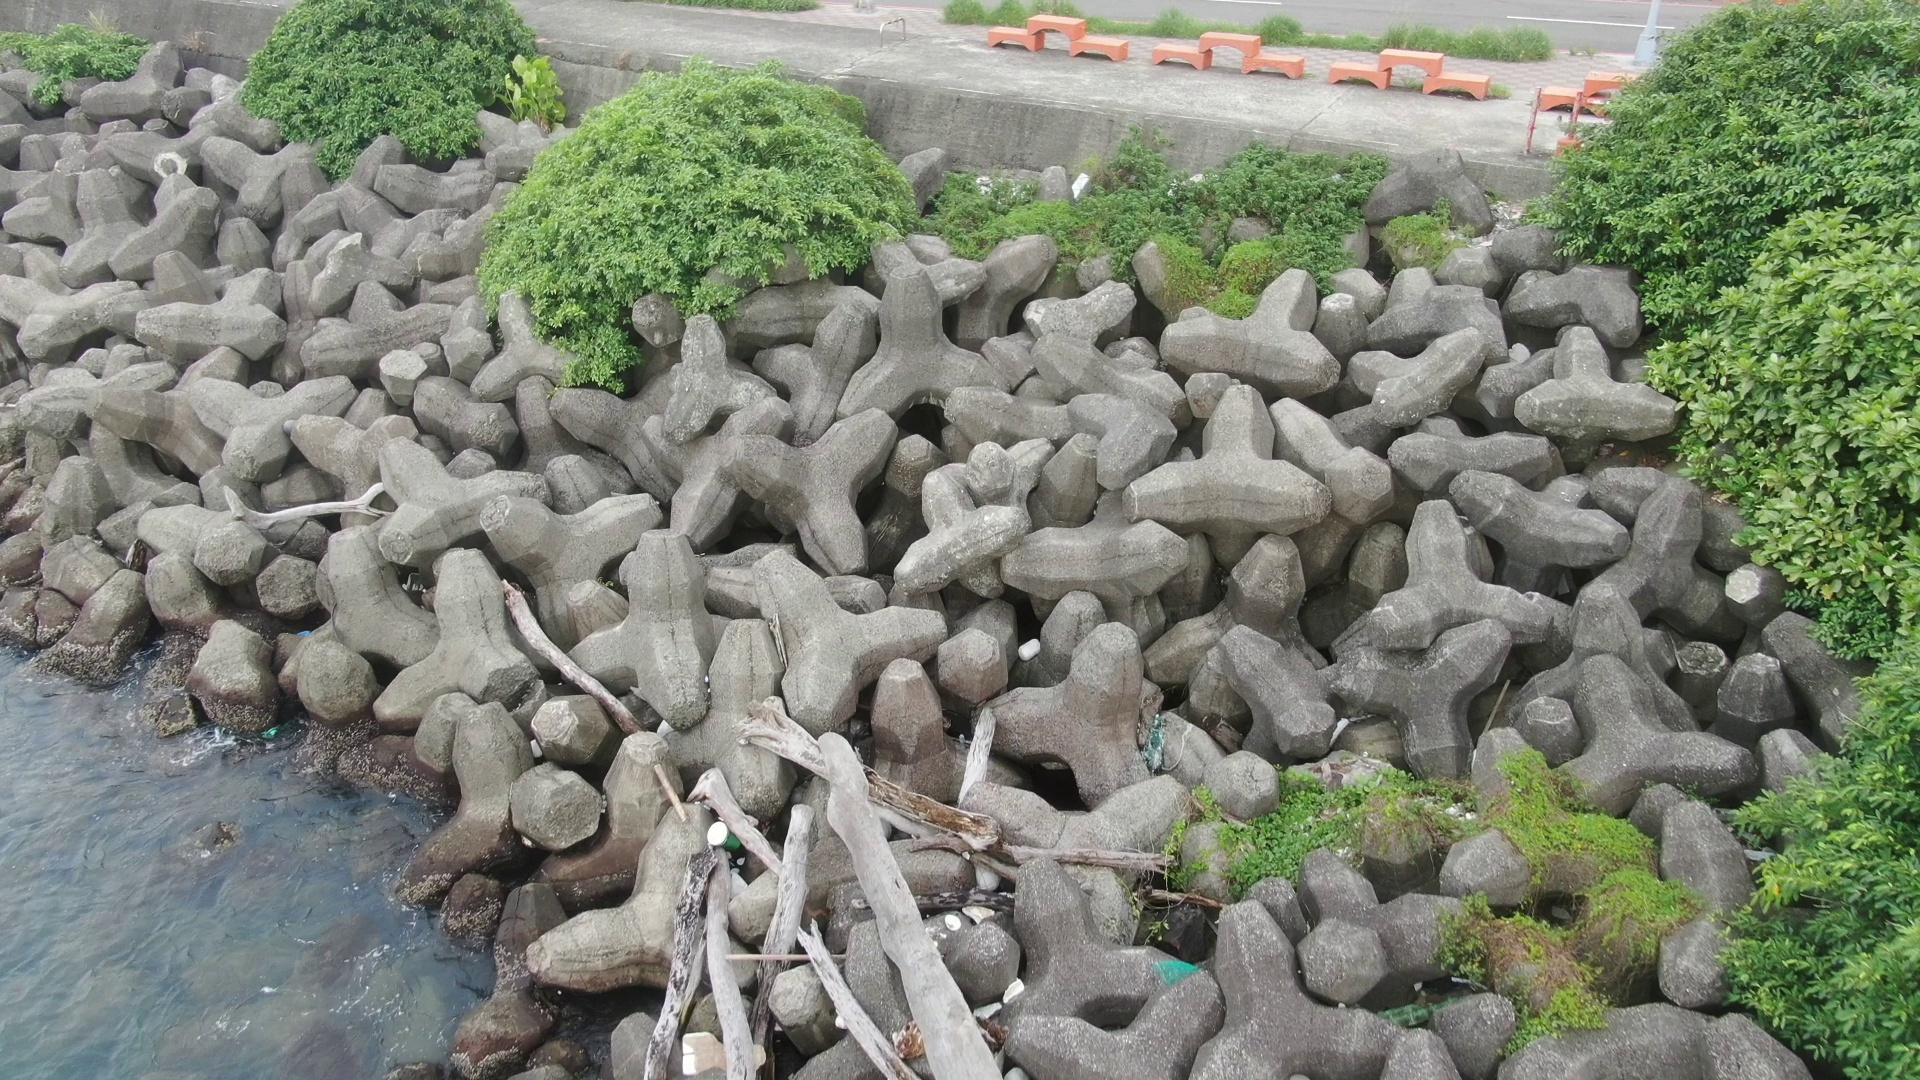garbage: (1062, 164, 1112, 202), (702, 820, 748, 858), (251, 715, 289, 746), (1015, 629, 1044, 667)
